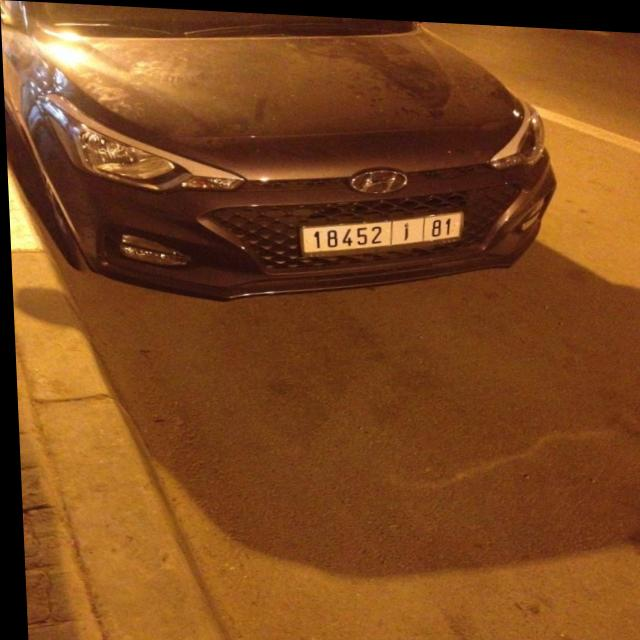License-Plate: (298, 207, 462, 252)
